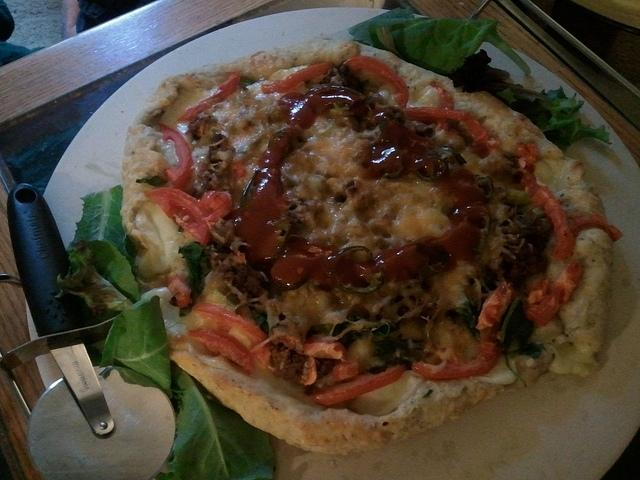tomato: (411, 282, 515, 380), (194, 303, 275, 368), (404, 106, 500, 154), (143, 187, 215, 247), (308, 364, 408, 406), (343, 56, 409, 109), (531, 186, 574, 260), (188, 328, 254, 376), (178, 72, 240, 121), (268, 326, 346, 360), (261, 62, 333, 95), (160, 124, 192, 190), (568, 212, 624, 241), (524, 286, 563, 326), (552, 262, 582, 304), (201, 191, 233, 224), (164, 274, 192, 308), (430, 80, 456, 110), (514, 142, 538, 168), (300, 357, 318, 386), (334, 362, 358, 381), (230, 162, 247, 179)
